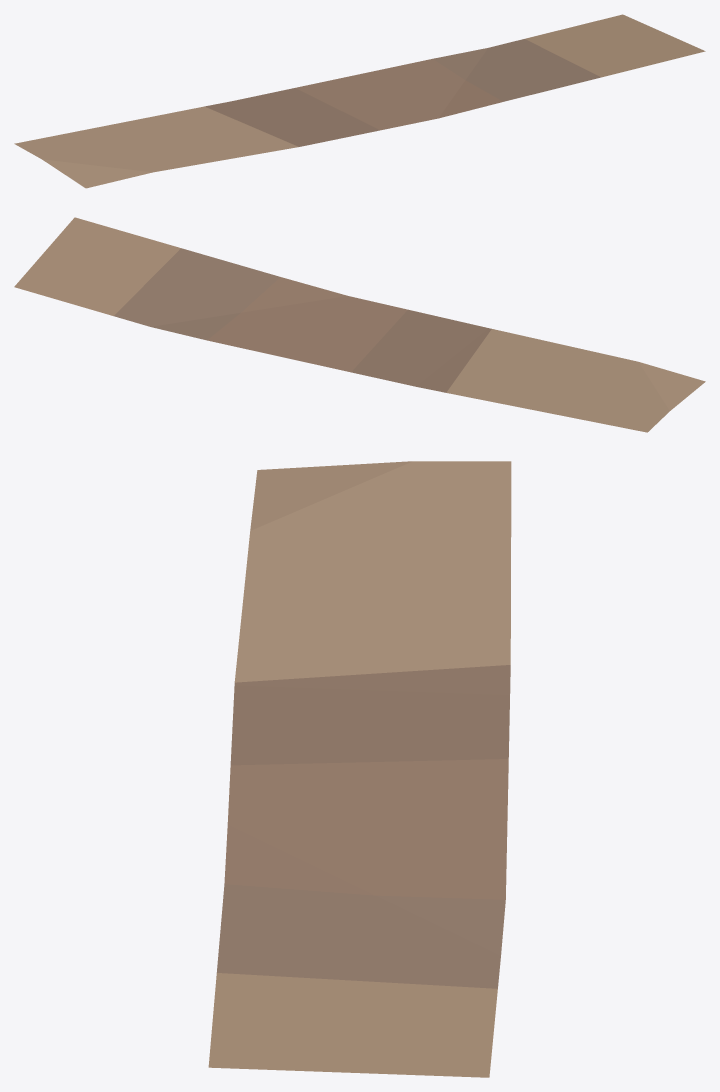
The model's file is farm_29_26_soil.glb.
3 renders of one model, top to bottom at view 1: azimuth 30°, elevation 25°; view 2: azimuth 150°, elevation 25°; view 3: azimuth 270°, elevation 25°, orthographic. The views are drawn at different scales.
Parts seen in each view (by area): view 1: geometry_0; view 2: geometry_0; view 3: geometry_0.
Part boxes in pixels (x1=…): geometry_0: x1=14, y1=14, x2=705, y2=188; geometry_0: x1=14, y1=217, x2=705, y2=432; geometry_0: x1=208, y1=461, x2=511, y2=1077.
Size of the model in its own units: 107 by 3.12 by 22.72.
